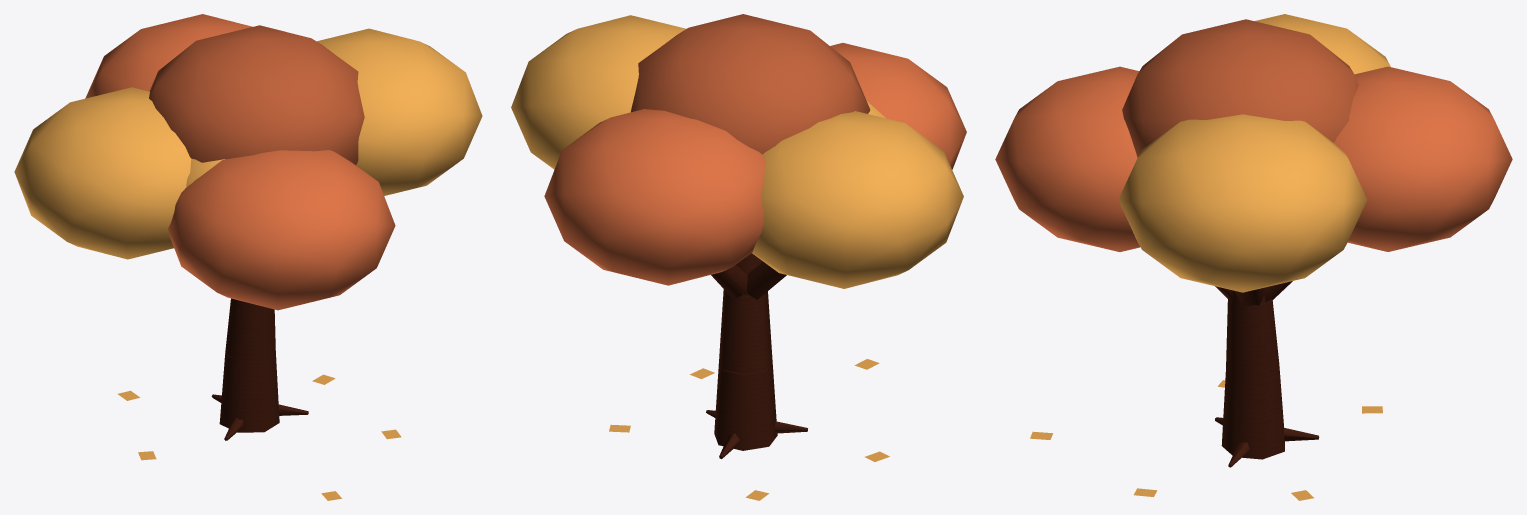
The model's file is autumn-maple.glb.
The picture shows the model from 3 angles, left to right: view 1: azimuth 30°, elevation 25°; view 2: azimuth 150°, elevation 25°; view 3: azimuth 270°, elevation 25°; orthographic projection. The views are drawn at different scales.
Visible parts, largest first — view 1: Merged_foliage-light, Merged_foliage, Merged_foliage-deep, Merged_bark, Merged_maple-litter; view 2: Merged_foliage-light, Merged_foliage, Merged_foliage-deep, Merged_bark, Merged_maple-litter; view 3: Merged_foliage, Merged_foliage-light, Merged_foliage-deep, Merged_bark, Merged_maple-litter.
Boxes of the visible parts, x1,y1,x2,y2 form: Merged_foliage-light: (14,28,482,259); Merged_foliage: (85,14,395,310); Merged_foliage-deep: (149,25,364,164); Merged_bark: (211,298,308,440); Merged_maple-litter: (118,374,401,500); Merged_foliage-light: (511,15,963,288); Merged_foliage: (544,43,966,285); Merged_foliage-deep: (631,14,870,154); Merged_bark: (706,253,807,458); Merged_maple-litter: (609,359,889,500); Merged_foliage: (995,66,1512,251); Merged_foliage-light: (1118,14,1390,292); Merged_foliage-deep: (1122,19,1358,157); Merged_bark: (1215,281,1319,467); Merged_maple-litter: (1030,380,1382,500).
Size of what is drawn, in the model's own units: 4.99 by 4.37 by 4.96.
5 materials, 1 textured.
